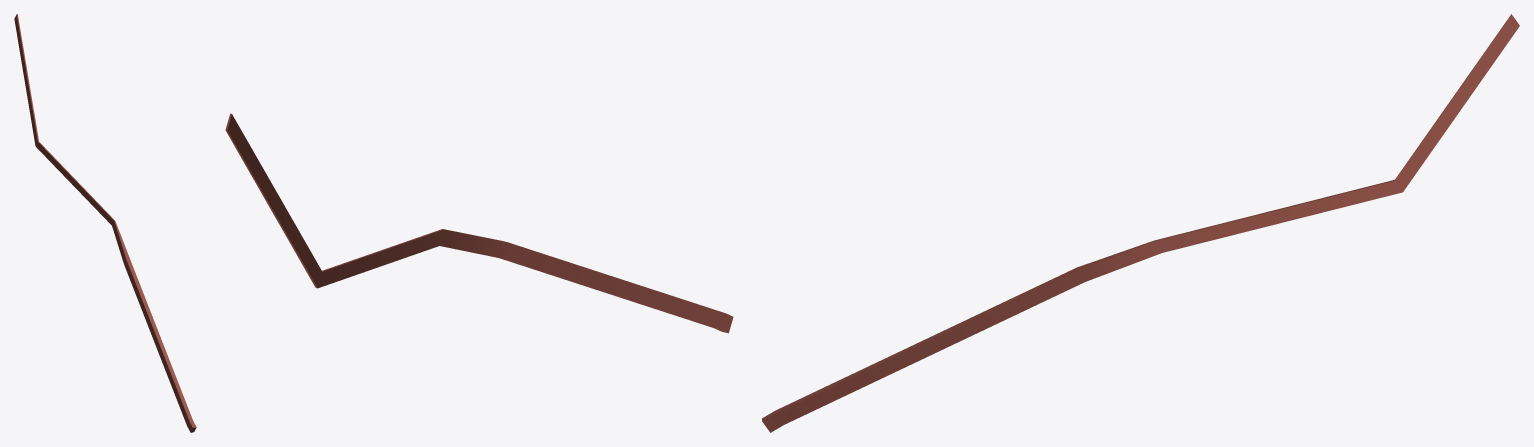
File: Rope2.fbx
3 renders of one model, left to right at view 1: azimuth 30°, elevation 25°; view 2: azimuth 150°, elevation 25°; view 3: azimuth 270°, elevation 25°, orthographic. The views are drawn at different scales.
Visible parts, largest first — view 1: Rope2; view 2: Rope2; view 3: Rope2.
Part boxes in pixels (x1=…): Rope2: x1=14, y1=14, x2=196, y2=432; Rope2: x1=225, y1=113, x2=733, y2=333; Rope2: x1=762, y1=14, x2=1519, y2=432.
Bounding box in the file's own units: 0.6848 × 4.37 × 6.71.
